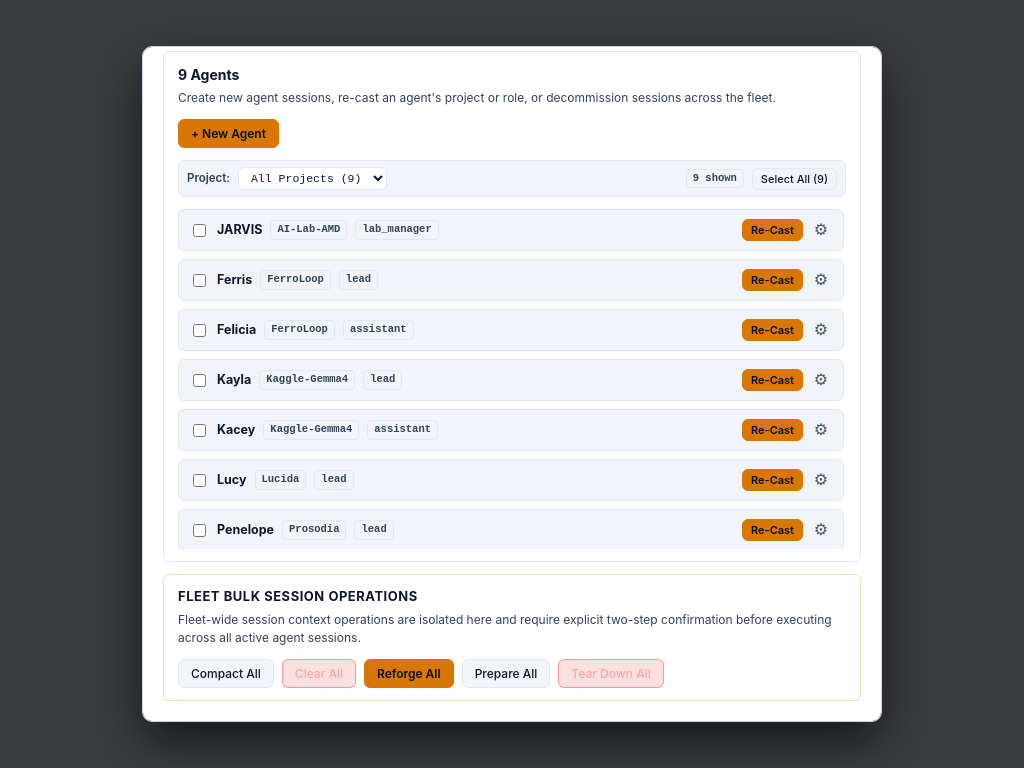
it: Track 1 FerroDeck+ Operator Controls UI (Records 47, 48, 44, 30) › Records 4 & 44 — Unified Settings Modal with Isolated Bulk Session Operations › requires two-step confirmation before invoking bulkSessionAction in SettingsModal
(page scrolled)
# Clicking Compact All arms confirmation without firing immediately
Click the button with test id "bulk-compact-btn".
click(226, 673)  # box top-left (178, 659), bottom-right (274, 688)
(page scrolled)
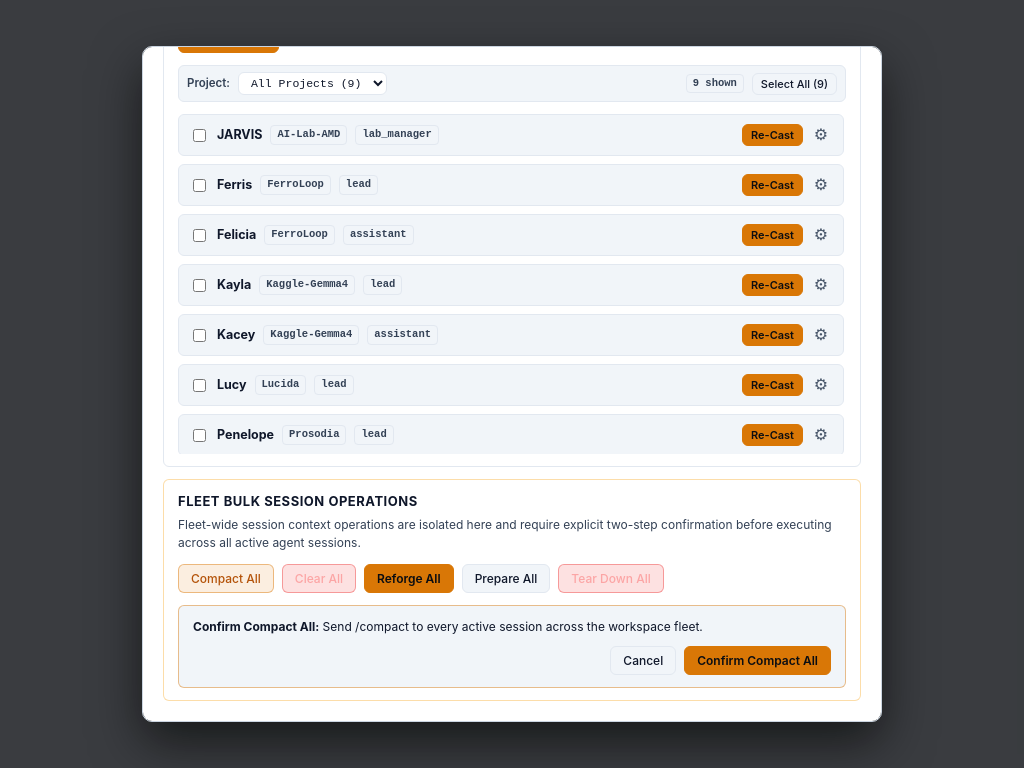
Check: the button with test id "bulk-confirm-btn" is shown, box top-left (684, 646), bottom-right (831, 675)
Check: the button with test id "bulk-cancel-btn" is shown
# Clicking Cancel aborts confirmation
Click the button with test id "bulk-cancel-btn".
click(643, 660)  # box top-left (610, 646), bottom-right (676, 675)
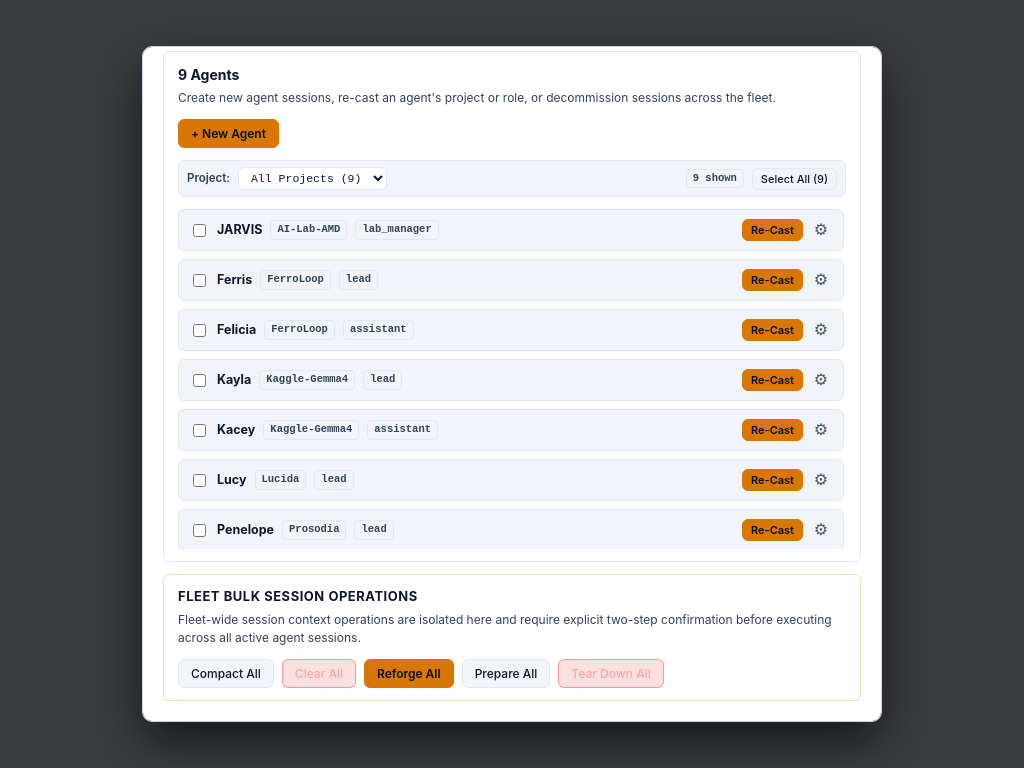
Check: the button with test id "bulk-confirm-btn" is gone
Click the button with test id "bulk-reforge-btn".
click(409, 673)  # box top-left (364, 659), bottom-right (454, 688)
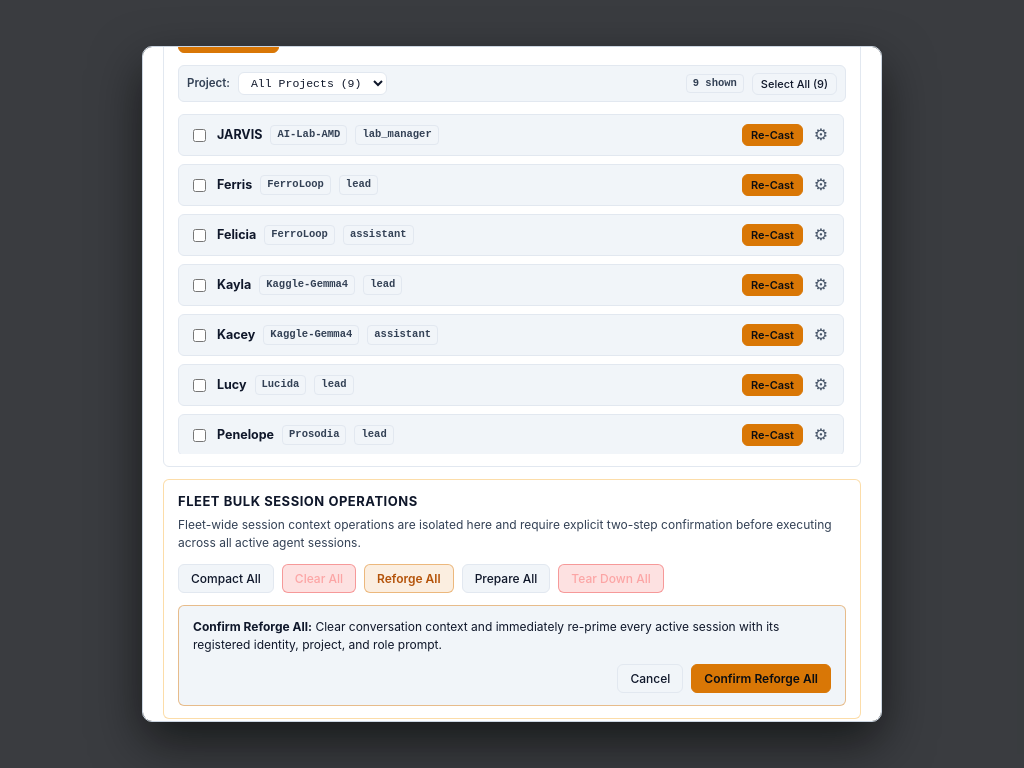
Click the button with test id "bulk-confirm-btn".
click(761, 678)  # box top-left (691, 664), bottom-right (831, 693)
(page scrolled)
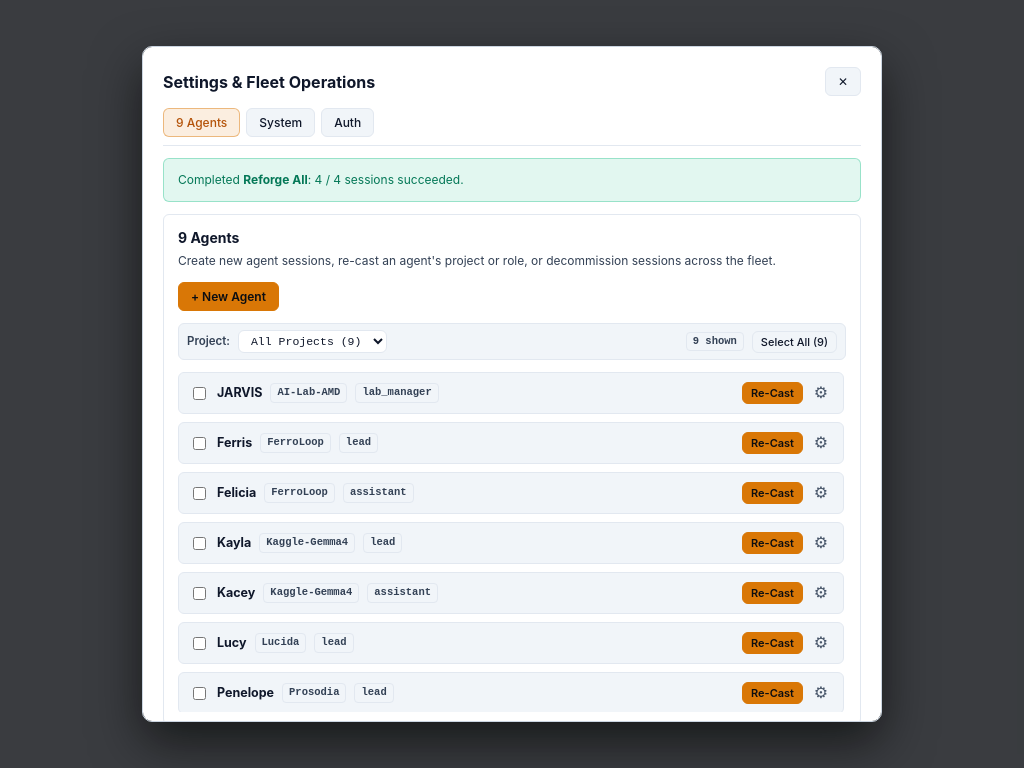
Check: the message with test id "bulk-action-result" reads "Completed Reforge All: 4 / 4 sessions succeeded.", box top-left (163, 158), bottom-right (861, 202)
